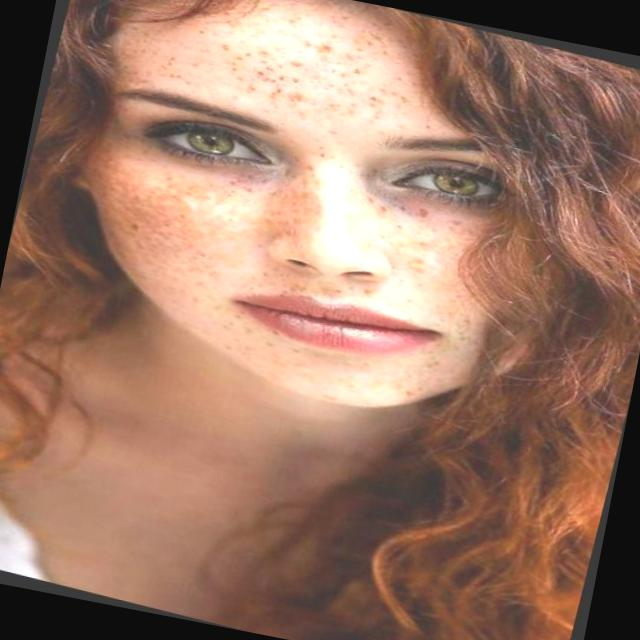freckle: (76, 125, 498, 394), (188, 0, 439, 141)
